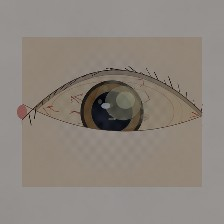corneal_ulcer: (93, 79, 153, 127)
